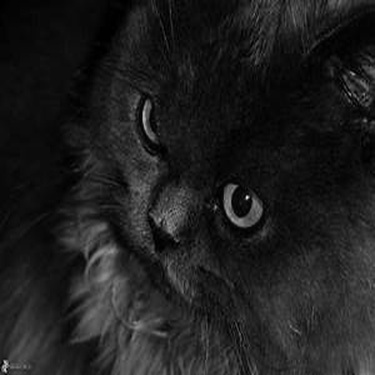cat: (59, 8, 366, 355)
